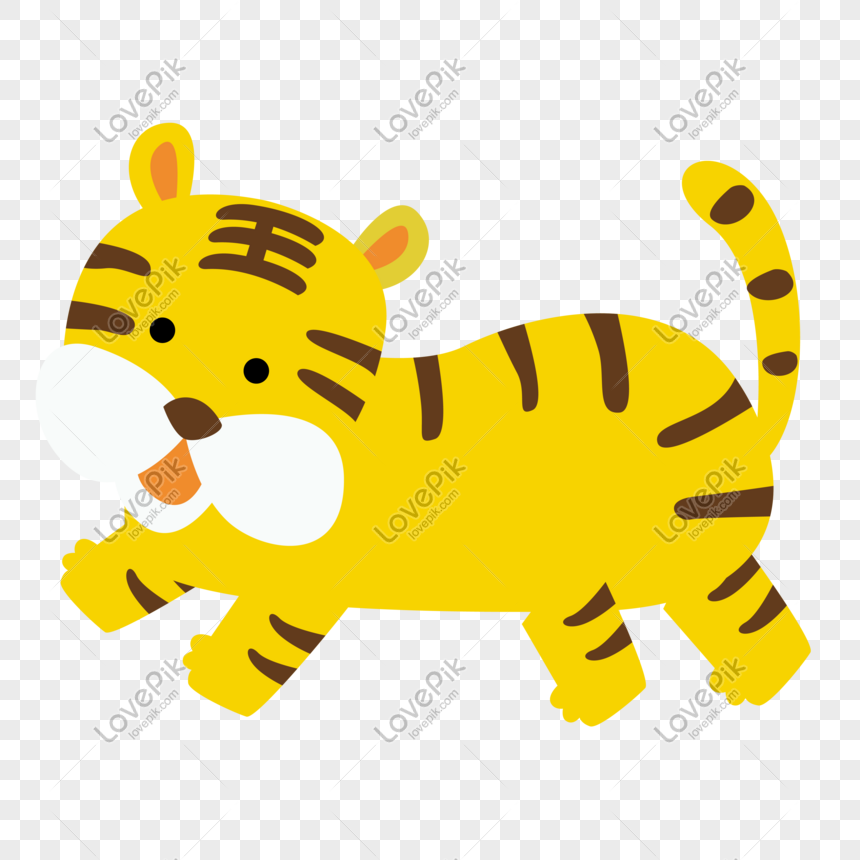Tigrew: (27, 93, 833, 794)
